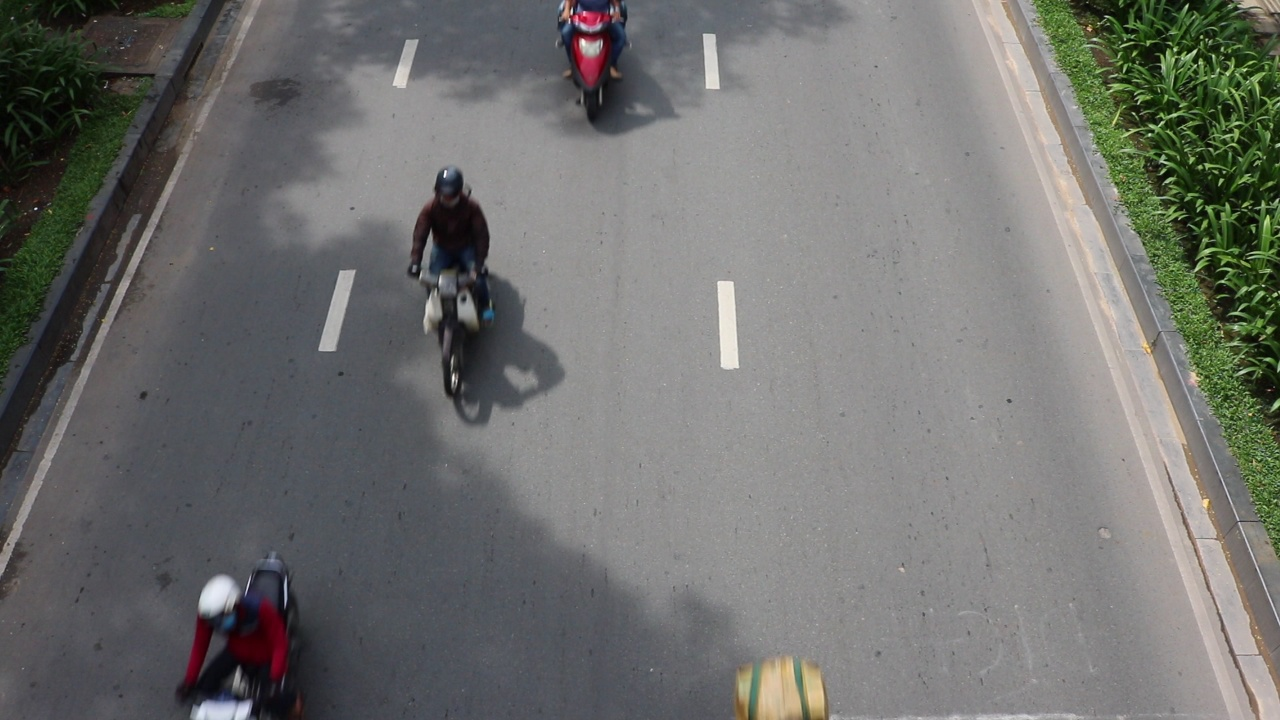motorcycle: (405, 250, 494, 410), (557, 3, 627, 123)
